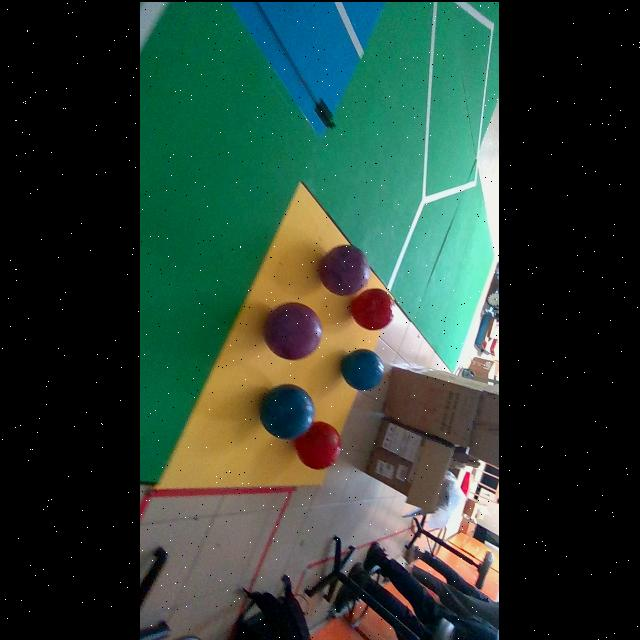B: (261, 382, 316, 438), (342, 348, 385, 389)
P: (265, 302, 323, 358), (320, 244, 371, 294)
R: (296, 420, 342, 468), (353, 287, 394, 328)
